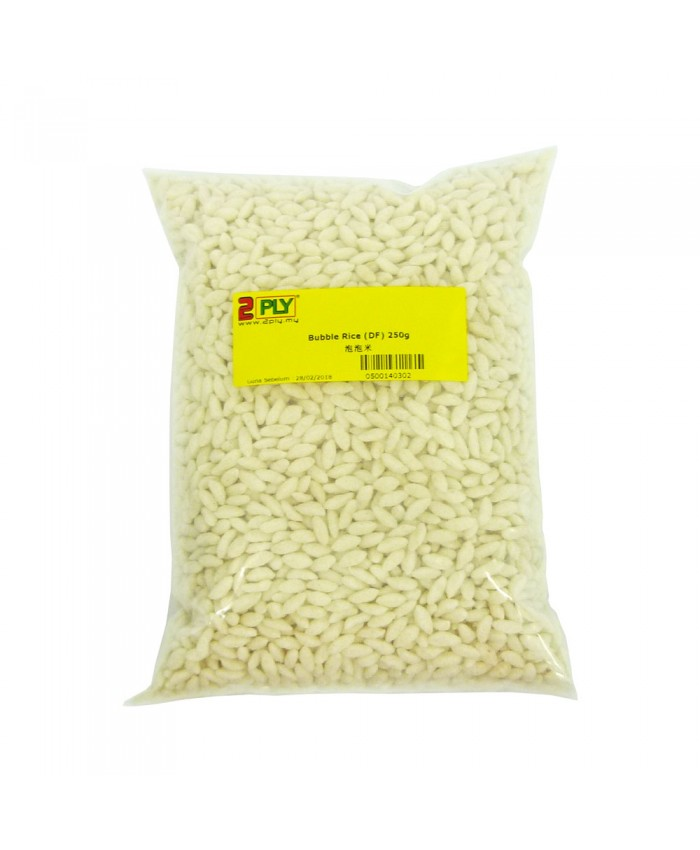plain rice: (201, 442, 523, 649)
